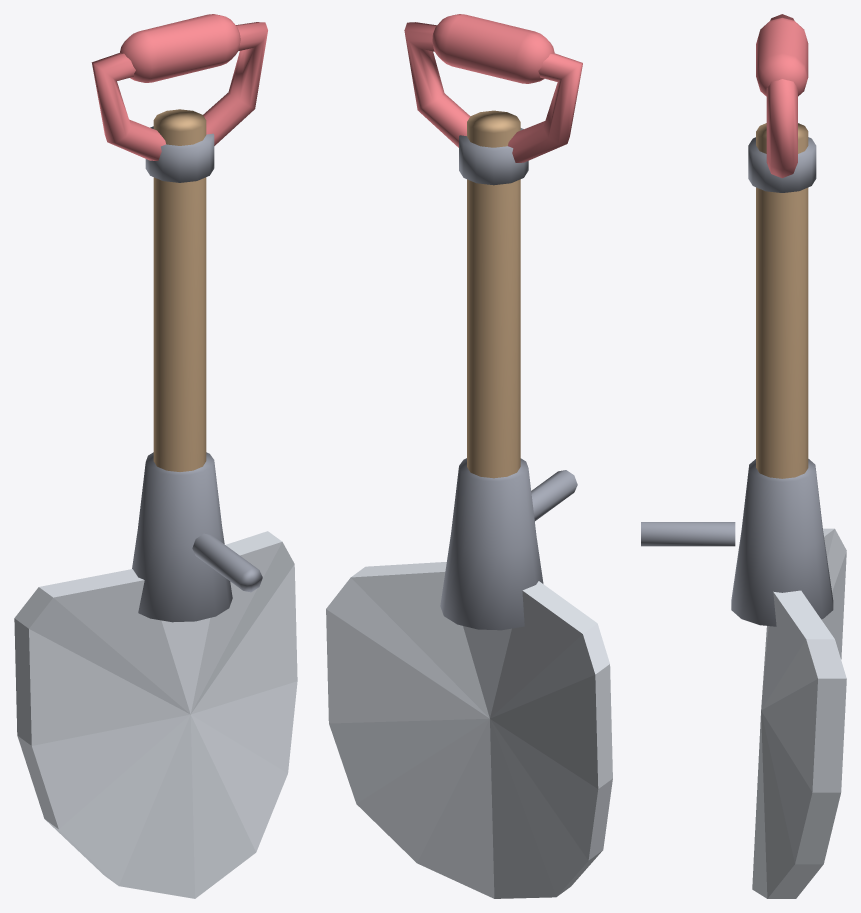
Rendered from SpleefShovel.glb.
3 renders of one model, left to right at view 1: azimuth 30°, elevation 25°; view 2: azimuth 150°, elevation 25°; view 3: azimuth 270°, elevation 25°, orthographic. The views are drawn at different scales.
Parts seen in each view (by area): view 1: Blade, Shaft, Collar, Grip; view 2: Blade, Shaft, Collar, Grip; view 3: Blade, Collar, Shaft, Grip.
Part boxes in pixels (bbox=[...]): Blade: bbox=[14, 531, 297, 898]; Shaft: bbox=[153, 109, 206, 471]; Collar: bbox=[132, 126, 262, 622]; Grip: bbox=[91, 14, 267, 160]; Blade: bbox=[326, 562, 612, 898]; Shaft: bbox=[467, 110, 520, 478]; Collar: bbox=[440, 128, 577, 630]; Grip: bbox=[404, 14, 582, 162]; Blade: bbox=[752, 528, 846, 898]; Collar: bbox=[641, 137, 833, 626]; Shaft: bbox=[756, 123, 808, 478]; Grip: bbox=[756, 14, 808, 178].
Bounding box in the file's own units: 1.16 × 3.6 × 0.7869.
